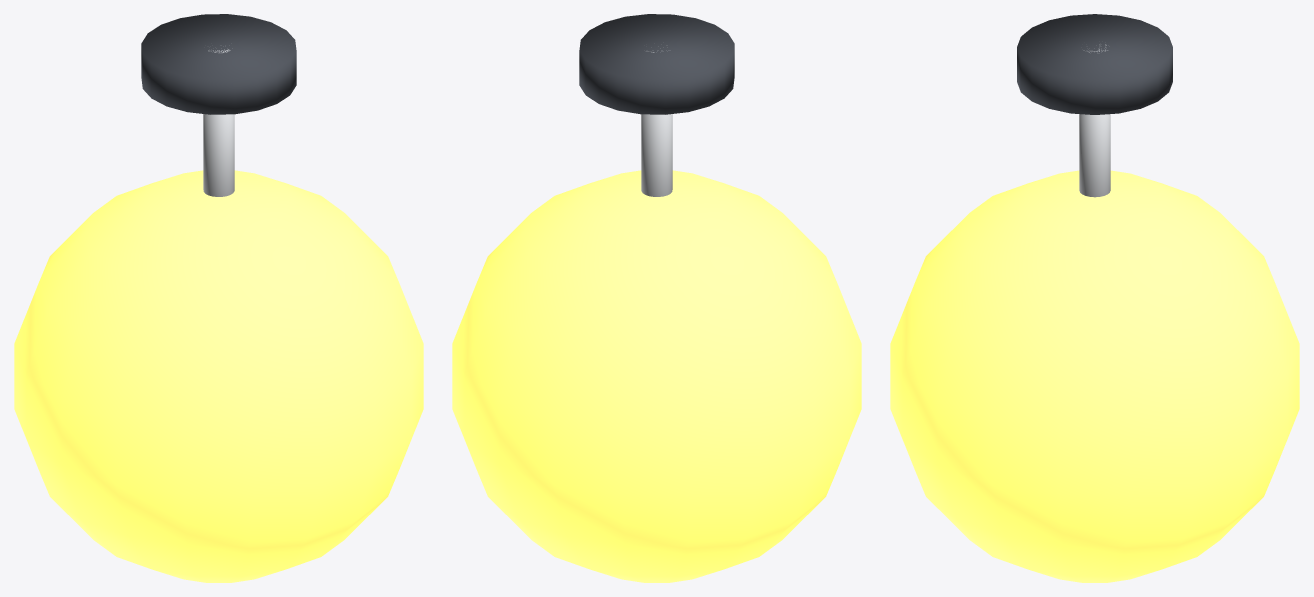
Rendered from ceiling_light_pendant_orb.glb.
The picture shows the model from 3 angles, left to right: view 1: azimuth 30°, elevation 25°; view 2: azimuth 150°, elevation 25°; view 3: azimuth 270°, elevation 25°; orthographic projection.
Visible parts, largest first — view 1: GD_ceiling_light_pendant_orb__m2, GD_ceiling_light_pendant_orb__m1, GD_ceiling_light_pendant_orb__m0; view 2: GD_ceiling_light_pendant_orb__m2, GD_ceiling_light_pendant_orb__m1, GD_ceiling_light_pendant_orb__m0; view 3: GD_ceiling_light_pendant_orb__m2, GD_ceiling_light_pendant_orb__m1, GD_ceiling_light_pendant_orb__m0.
Part boxes in pixels (<box>): GD_ceiling_light_pendant_orb__m2: <box>14,170,423,582</box>; GD_ceiling_light_pendant_orb__m1: <box>141,14,296,114</box>; GD_ceiling_light_pendant_orb__m0: <box>203,49,234,196</box>; GD_ceiling_light_pendant_orb__m2: <box>452,170,861,582</box>; GD_ceiling_light_pendant_orb__m1: <box>579,14,734,114</box>; GD_ceiling_light_pendant_orb__m0: <box>641,51,672,196</box>; GD_ceiling_light_pendant_orb__m2: <box>890,170,1299,582</box>; GD_ceiling_light_pendant_orb__m1: <box>1017,14,1172,114</box>; GD_ceiling_light_pendant_orb__m0: <box>1079,44,1110,197</box>.
Size of the model in its own units: 0.3104 by 0.44 by 0.3151.
